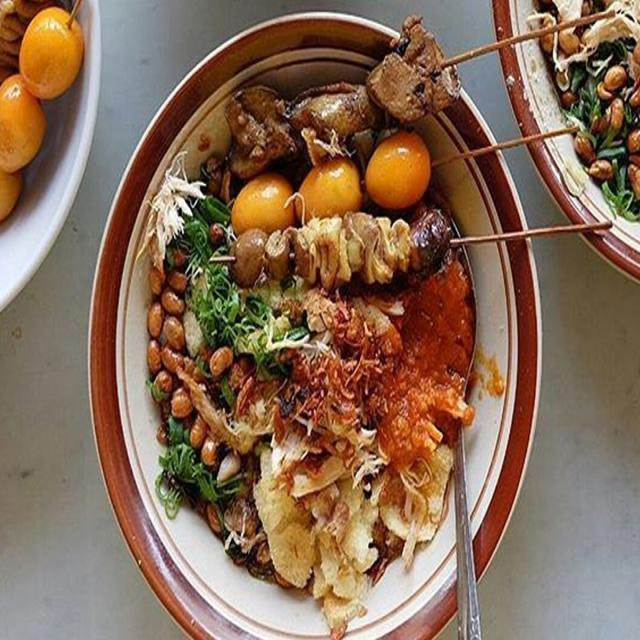bubur ayam: (148, 68, 478, 604)
mangkuk: (87, 11, 542, 632), (504, 0, 640, 282), (1, 1, 102, 316)
